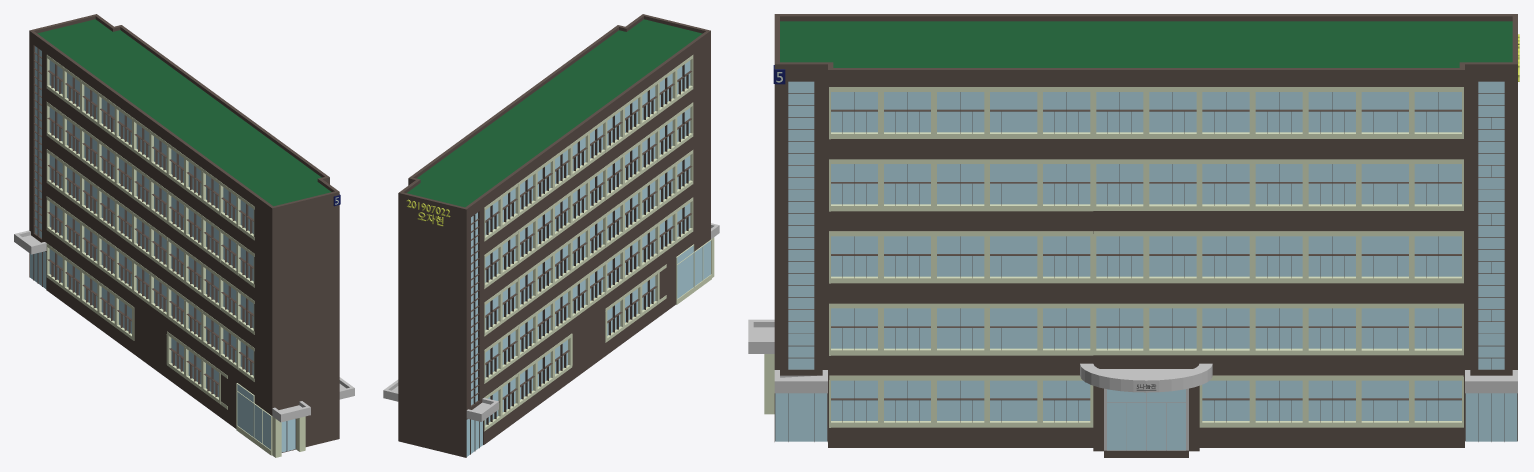
The model's file is 5building_9.glb.
3 renders of one model, left to right at view 1: azimuth 30°, elevation 25°; view 2: azimuth 150°, elevation 25°; view 3: azimuth 270°, elevation 25°, orthographic. The views are drawn at different scales.
Parts seen in each view (by area): view 1: sidebar-2.001; view 2: sidebar-2.001; view 3: sidebar-2.001.
Boxes of the visible parts, x1,y1,x2,y2 form: sidebar-2.001: [14, 14, 354, 457]; sidebar-2.001: [383, 14, 719, 457]; sidebar-2.001: [748, 14, 1519, 457].
Bounding box in the file's own units: 75.1 × 157 × 291.
